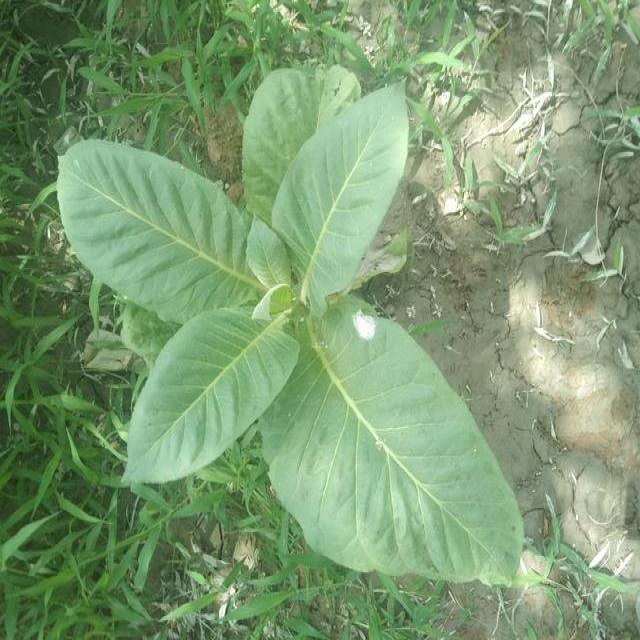crop: (48, 67, 526, 585)
